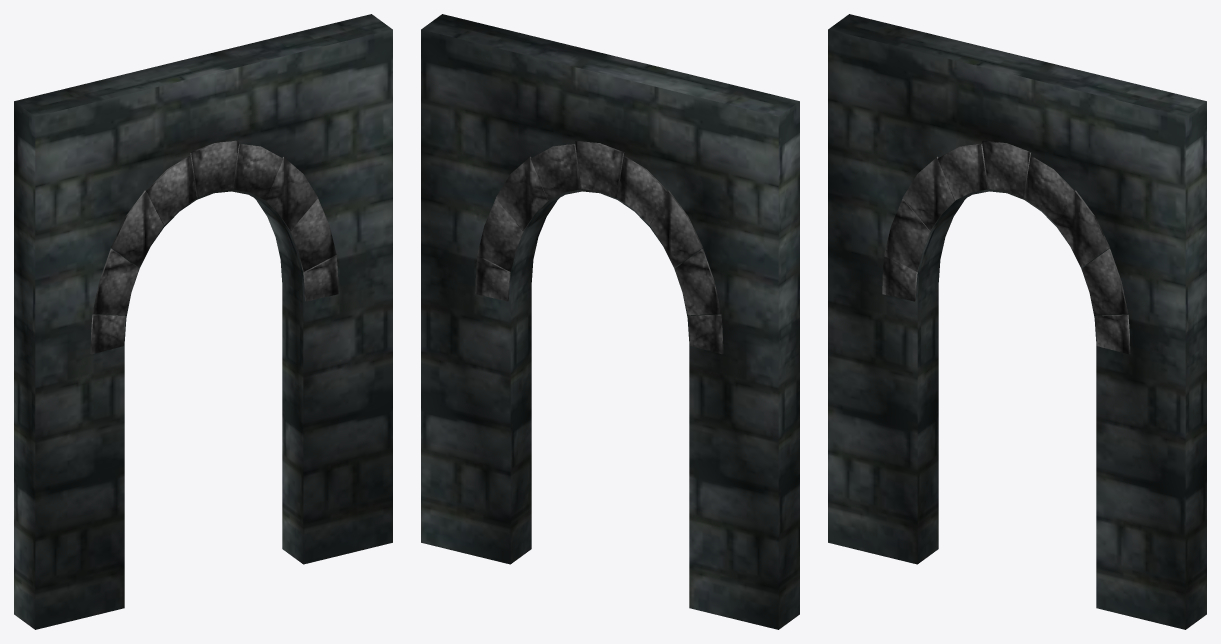
File: dark stone door3.glb
The picture shows the model from 3 angles, left to right: view 1: azimuth 30°, elevation 25°; view 2: azimuth 150°, elevation 25°; view 3: azimuth 330°, elevation 25°; orthographic projection.
Parts seen in each view (by area): view 1: Circular Doorway.002; view 2: Circular Doorway.002; view 3: Circular Doorway.002.
Part boxes in pixels (bbox=[...]): Circular Doorway.002: bbox=[14, 14, 392, 629]; Circular Doorway.002: bbox=[421, 14, 799, 629]; Circular Doorway.002: bbox=[828, 14, 1206, 629].
Bounding box in the file's own units: 2 × 2.74 × 0.225.
2 materials, 2 textured.
